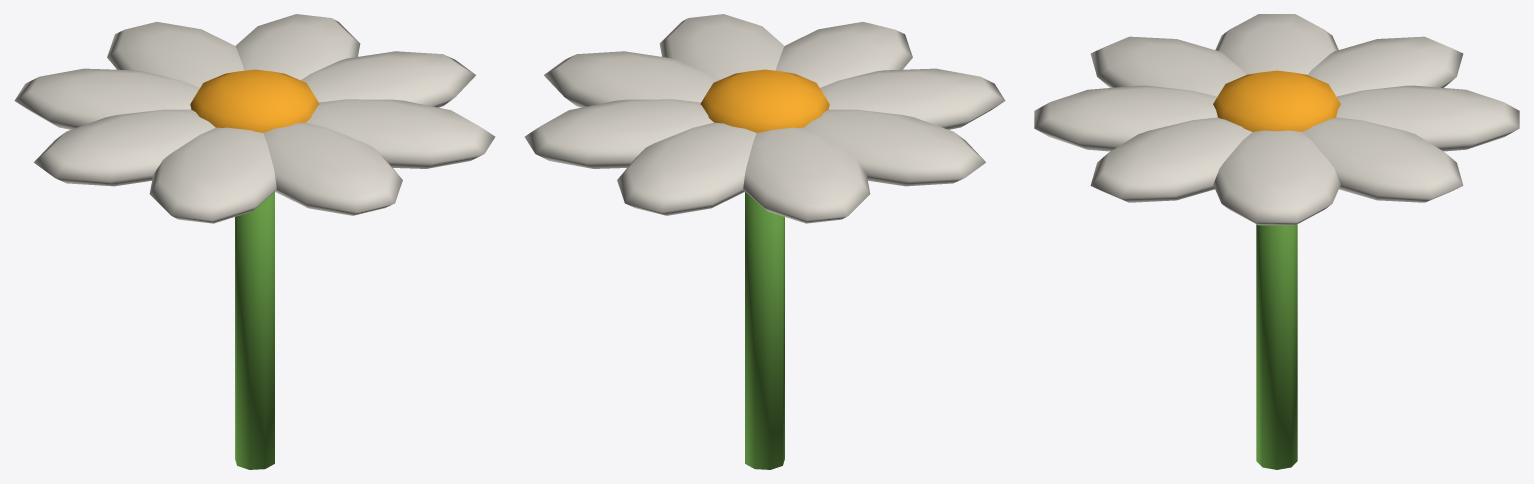
Rendered from daisy.glb.
3 views of the same model, side by side, from view 1: azimuth 30°, elevation 25°; view 2: azimuth 150°, elevation 25°; view 3: azimuth 270°, elevation 25° (orthographic).
Visible parts, largest first — view 1: Daisy_Petals, Daisy_Stem, Daisy_Centre; view 2: Daisy_Petals, Daisy_Stem, Daisy_Centre; view 3: Daisy_Petals, Daisy_Stem, Daisy_Centre.
Boxes of the visible parts, x1,y1,x2,y2 form: Daisy_Petals: (14,14,495,223); Daisy_Stem: (235,191,274,469); Daisy_Centre: (190,69,319,132); Daisy_Petals: (524,14,1005,223); Daisy_Stem: (745,191,784,469); Daisy_Centre: (700,69,829,132); Daisy_Petals: (1034,14,1519,225); Daisy_Stem: (1256,224,1297,469); Daisy_Centre: (1213,70,1340,131).
Size of the model in its own units: 0.2831 by 0.245 by 0.2831.
